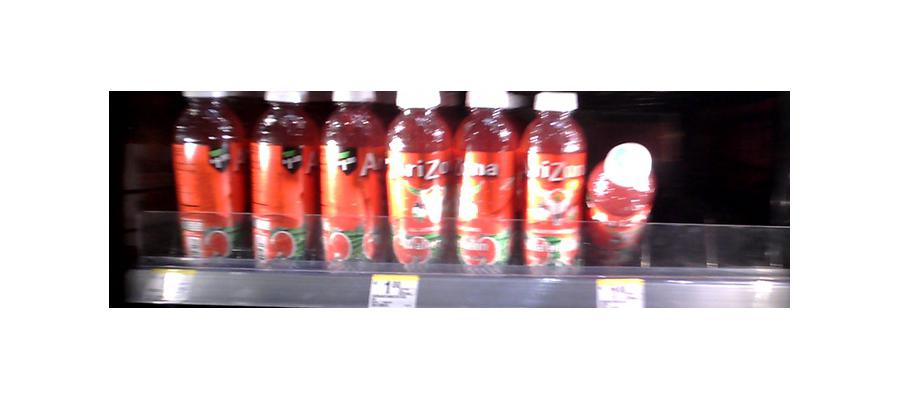bottle: (172, 84, 245, 263), (247, 90, 316, 267), (319, 88, 386, 267), (522, 89, 584, 275), (388, 87, 450, 268), (457, 89, 515, 269), (588, 137, 655, 269)
